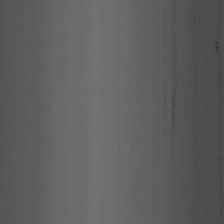inclusion: (168, 2, 180, 137), (213, 36, 220, 57)
